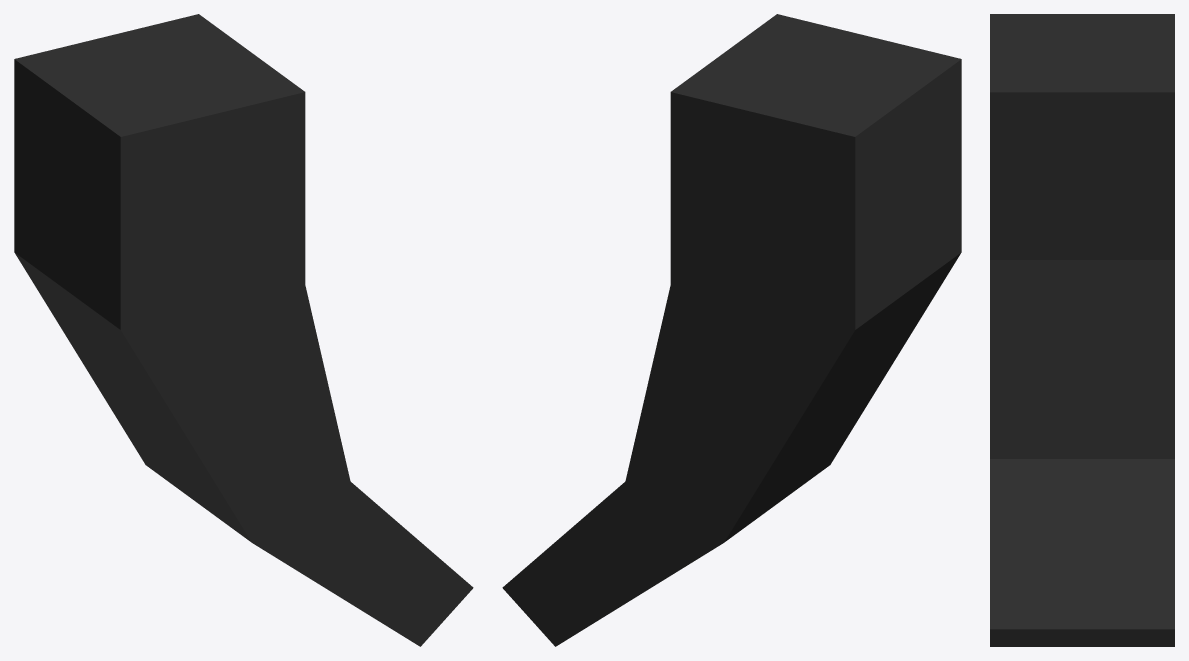
Rendered from Shotgun3_05_3.fbx.
3 renders of one model, left to right at view 1: azimuth 30°, elevation 25°; view 2: azimuth 150°, elevation 25°; view 3: azimuth 270°, elevation 25°, orthographic. The views are drawn at different scales.
Visible parts, largest first — view 1: Shotgun3_05_3; view 2: Shotgun3_05_3; view 3: Shotgun3_05_3.
Boxes of the visible parts, x1,y1,x2,y2 form: Shotgun3_05_3: (14,14,473,646); Shotgun3_05_3: (502,14,961,646); Shotgun3_05_3: (990,14,1174,646).
Bounding box in the file's own units: 0.0182 × 0.0287 × 0.00951.
